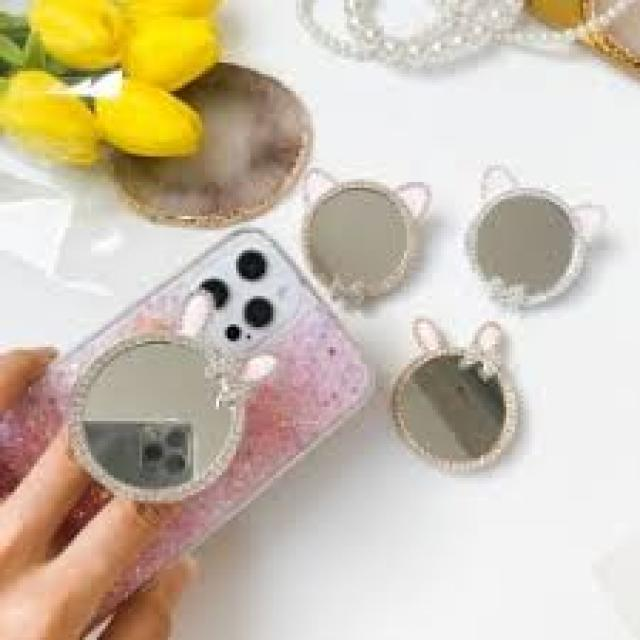Phone: (0, 222, 384, 630)
